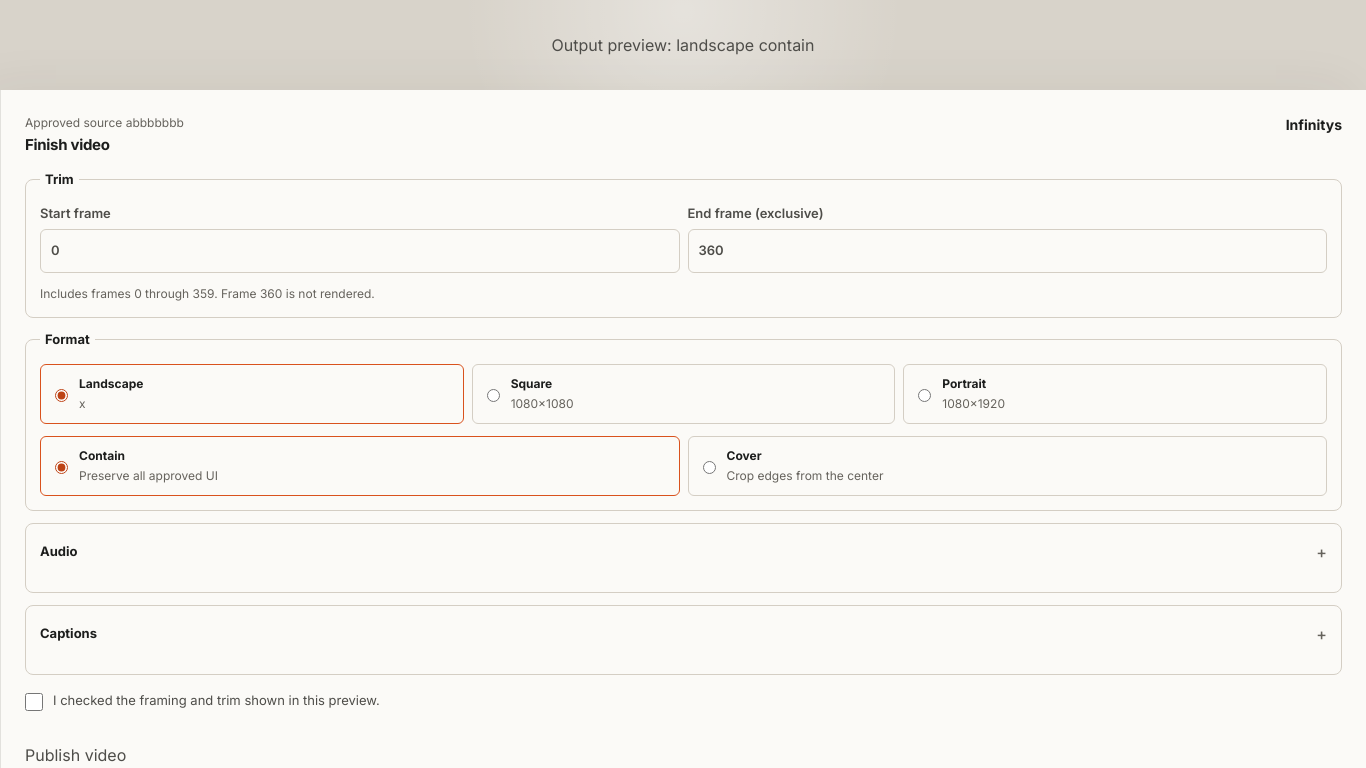
Scenario: FinishVideoPanel › warns about cover cropping and requires reconfirmation
Expected: the text "Output preview: landscape contain" is shown, [552,33,814,57]
Click the checkbox labelled "I checked the framing and trim shown in this preview.": (34, 702) [25,693,43,711]
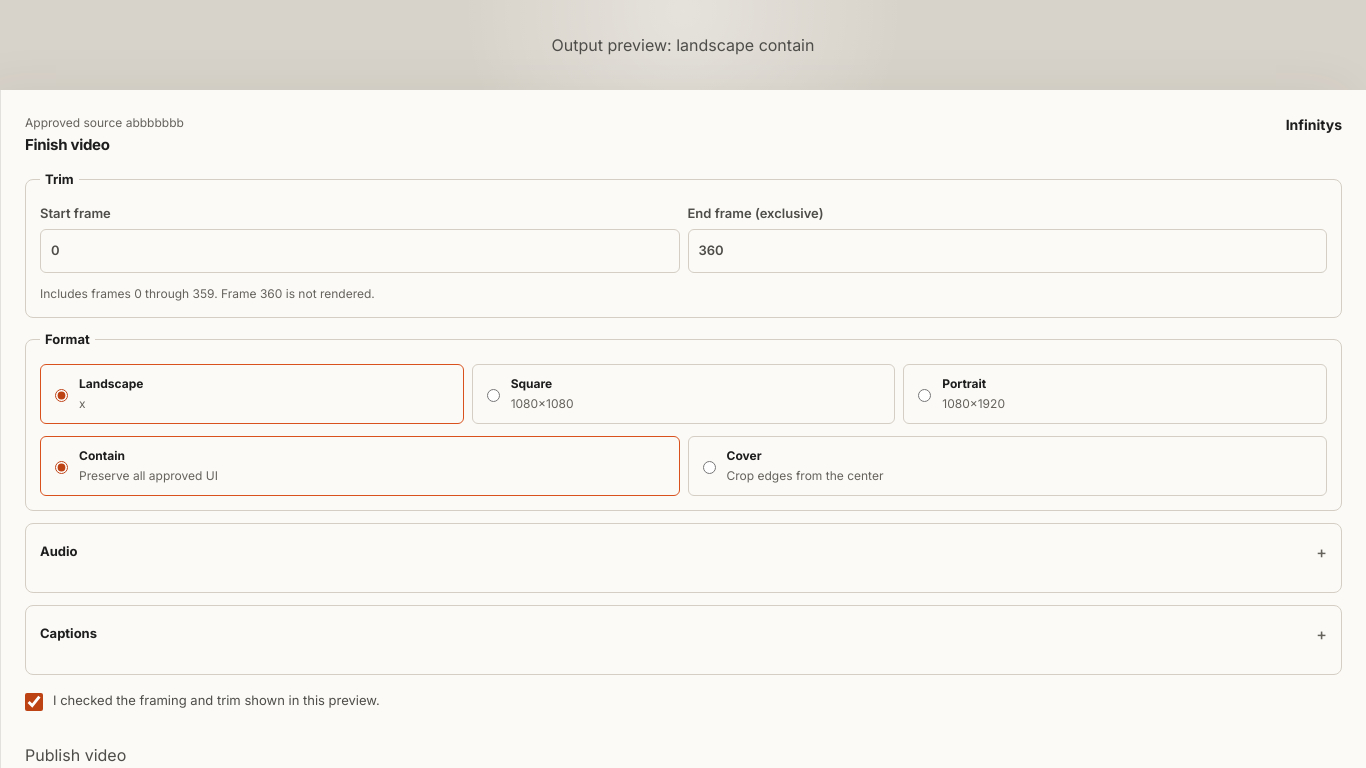
Click the radio button labelled "cover Crop edges from the center": (709, 467) [702,461,716,474]
(page scrolled)
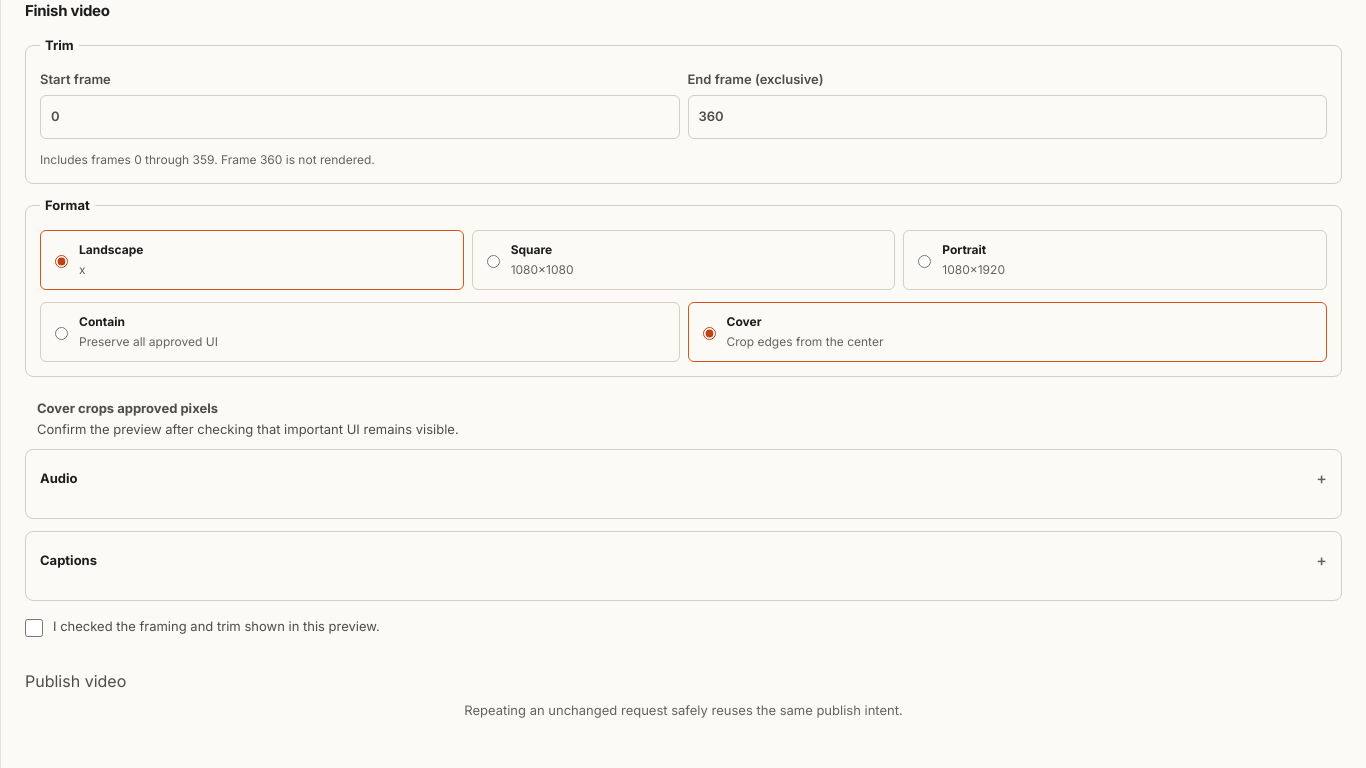
Now the checkbox labelled "I checked the framing and trim shown in this preview." is not checked, box [25,619,43,637]
Now the text "Cover crops approved pixels" is shown, box [37,400,218,416]
